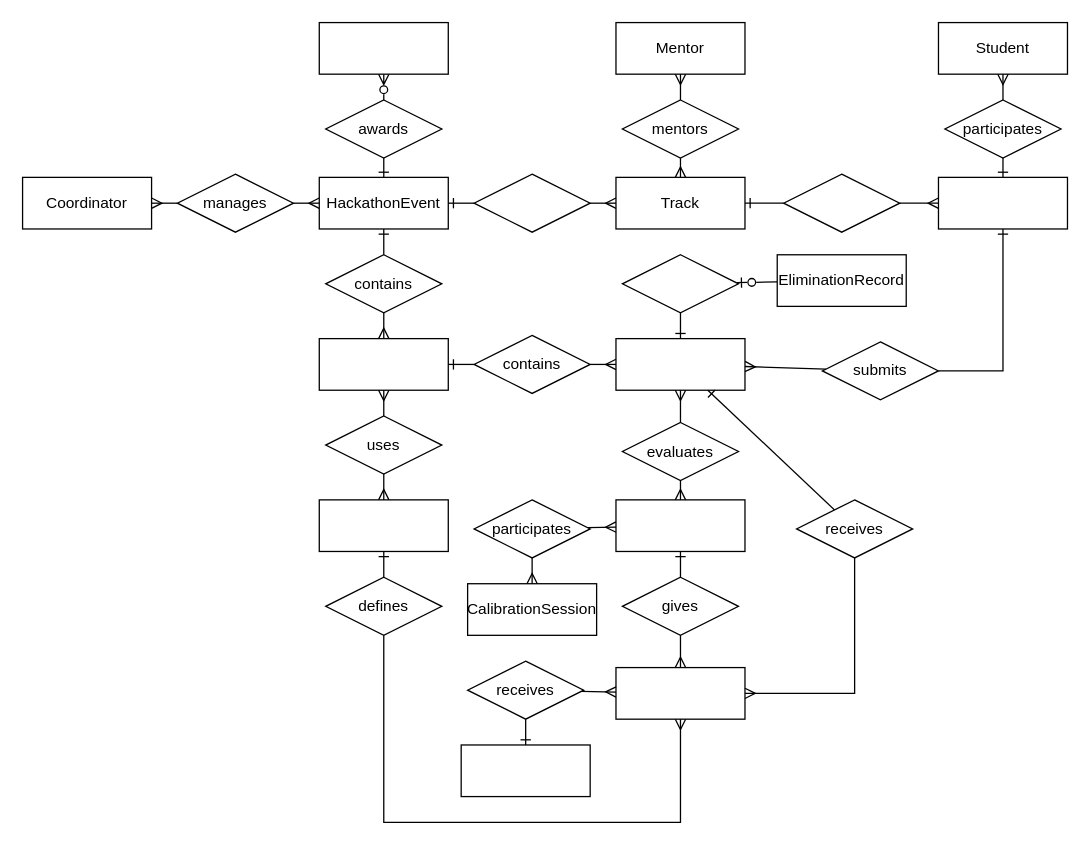
Image size: 1090x855. Some labels were removed from this diagram. The box of each missing label's shape, as (x1, y1, x2, y2) in pixels:
Criterion: (318, 499, 448, 551)
eliminated: (621, 253, 739, 313)
has: (782, 173, 900, 232)
includes: (473, 173, 590, 232)
Judge: (615, 499, 745, 551)
Prize: (318, 21, 448, 74)
ResearchDataset: (460, 744, 590, 797)
Round: (318, 337, 448, 390)
Score: (615, 666, 745, 719)
Submission: (615, 337, 745, 390)
Team: (937, 176, 1067, 229)
